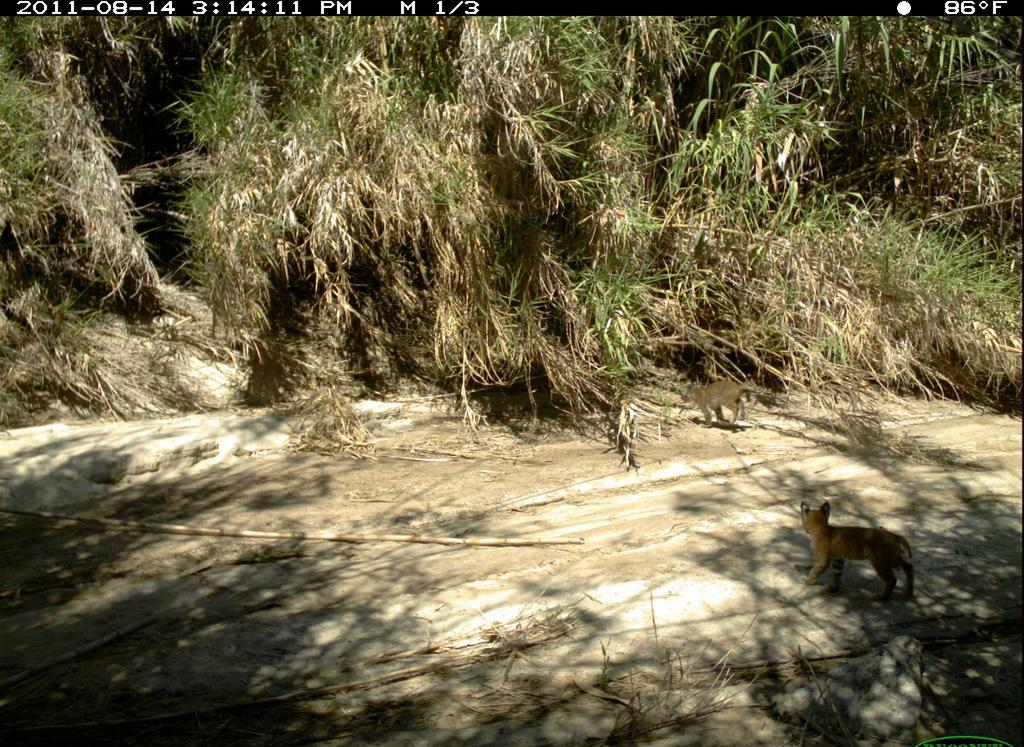bobcat: (686, 377, 759, 434)
